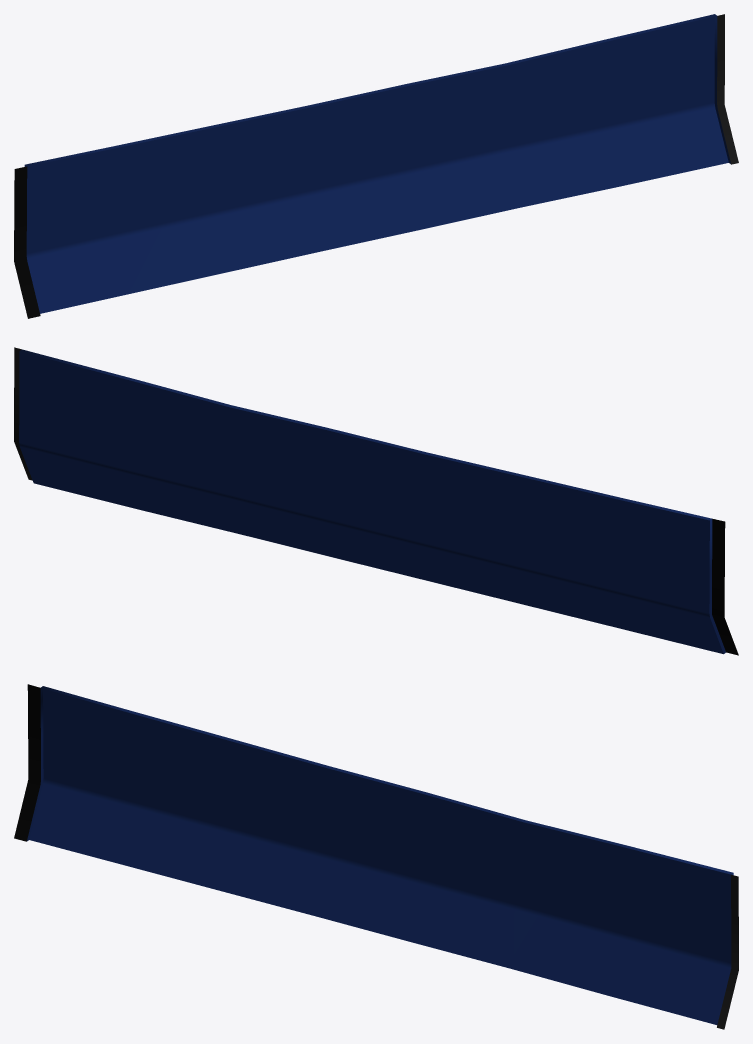
3 renders of one model, top to bottom at view 1: azimuth 30°, elevation 25°; view 2: azimuth 150°, elevation 25°; view 3: azimuth 330°, elevation 25°, orthographic. The views are drawn at different scales.
Visible parts, largest first — view 1: J715_8A_201B_L_1_DaS_J715_8A_201B_L, J715_8A_201B_L_J715_8A_201B_L_2_D, J715_8A_201B_L_1_DaS_J715_8A_201B_L_E; view 2: J715_8A_201B_L_1_DaS_J715_8A_201B_L, J715_8A_201B_L_1_DaS_J715_8A_201B_L_E, J715_8A_201B_L_J715_8A_201B_L_2_D; view 3: J715_8A_201B_L_1_DaS_J715_8A_201B_L, J715_8A_201B_L_J715_8A_201B_L_2_D, J715_8A_201B_L_1_DaS_J715_8A_201B_L_E.
Boxes of the visible parts, x1,y1,x2,y2 form: J715_8A_201B_L_1_DaS_J715_8A_201B_L: [26, 16, 728, 313]; J715_8A_201B_L_J715_8A_201B_L_2_D: [14, 14, 738, 318]; J715_8A_201B_L_1_DaS_J715_8A_201B_L_E: [24, 14, 731, 258]; J715_8A_201B_L_1_DaS_J715_8A_201B_L: [19, 351, 723, 653]; J715_8A_201B_L_1_DaS_J715_8A_201B_L_E: [20, 349, 725, 653]; J715_8A_201B_L_J715_8A_201B_L_2_D: [14, 347, 738, 655]; J715_8A_201B_L_1_DaS_J715_8A_201B_L: [29, 688, 731, 1024]; J715_8A_201B_L_J715_8A_201B_L_2_D: [14, 684, 738, 1029]; J715_8A_201B_L_1_DaS_J715_8A_201B_L_E: [27, 686, 733, 968].
Bounding box in the file's own units: 51.25 × 10.31 × 3.36.
